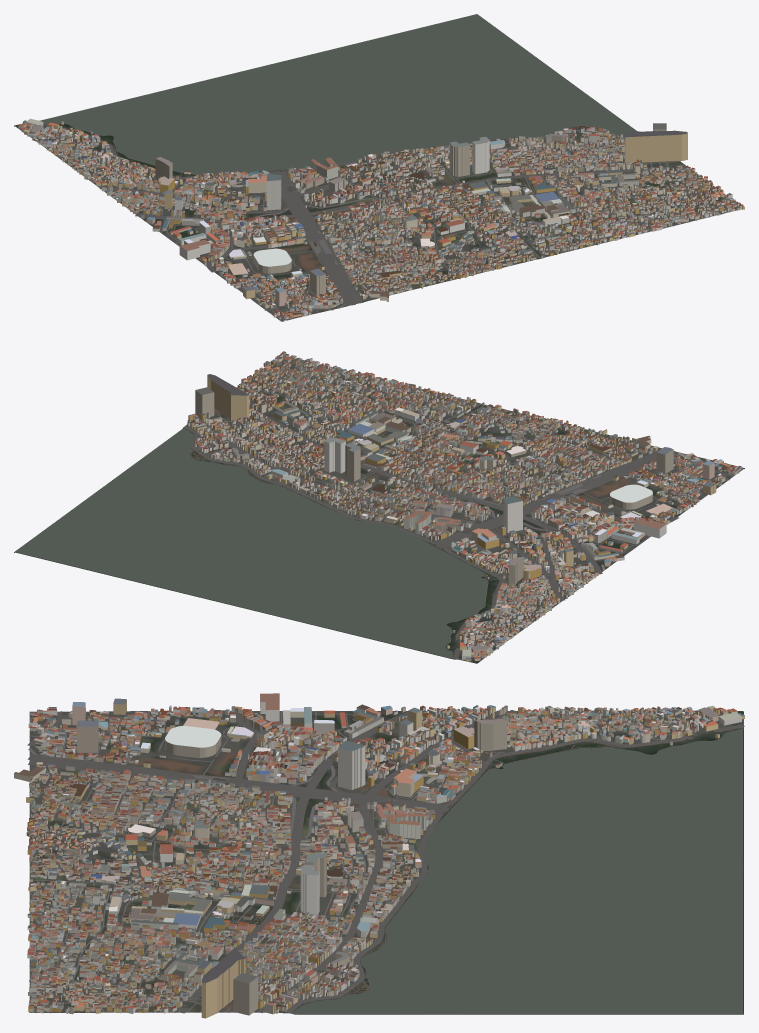
3 views of the same model, one above another, from view 1: azimuth 30°, elevation 25°; view 2: azimuth 150°, elevation 25°; view 3: azimuth 270°, elevation 25° (orthographic). The views are drawn at different scales.
Parts seen in each view (by area): view 1: buildings, water, ground, roads; view 2: buildings, water, ground, roads; view 3: buildings, water, ground, roads.
Boxes of the visible parts, bbox=[...] form: buildings: bbox=[18, 118, 744, 320]; water: bbox=[39, 14, 721, 258]; ground: bbox=[14, 16, 744, 321]; roads: bbox=[30, 122, 736, 320]; buildings: bbox=[187, 351, 741, 661]; water: bbox=[15, 365, 566, 658]; ground: bbox=[14, 359, 744, 663]; roads: bbox=[183, 356, 742, 659]; buildings: bbox=[14, 693, 744, 1018]; water: bbox=[29, 713, 743, 1013]; ground: bbox=[29, 710, 743, 1014]; roads: bbox=[27, 709, 744, 1013].
Bounding box in the file's own units: 1451 × 92.32 × 1435.
